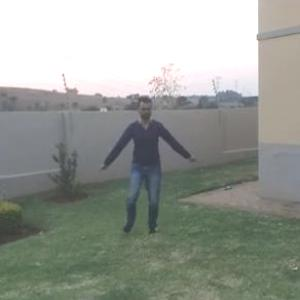land: (90, 87, 194, 244)
